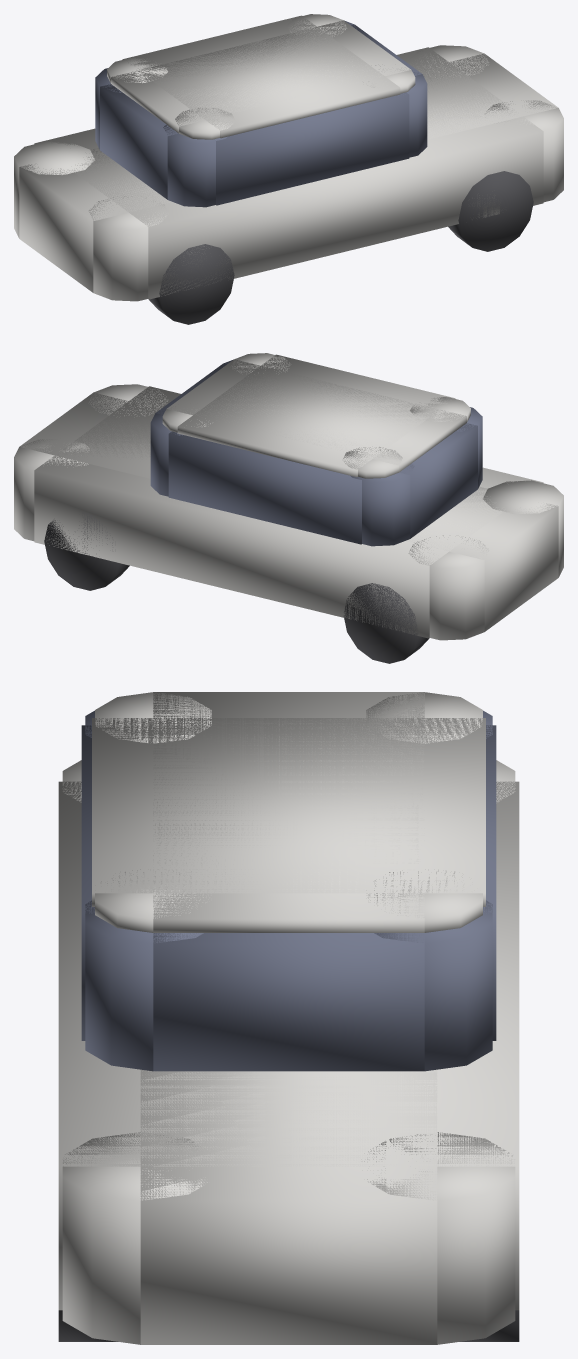
Rendered from car_white.glb.
3 renders of one model, top to bottom at view 1: azimuth 30°, elevation 25°; view 2: azimuth 150°, elevation 25°; view 3: azimuth 270°, elevation 25°, orthographic. The views are drawn at different scales.
Visible parts, largest first — view 1: car_white; view 2: car_white; view 3: car_white.
Boxes of the visible parts, x1,y1,x2,y2 form: car_white: [14, 14, 563, 324]; car_white: [14, 353, 563, 663]; car_white: [58, 692, 519, 1344].
Bounding box in the file's own units: 4.2 × 1.53 × 1.8.
